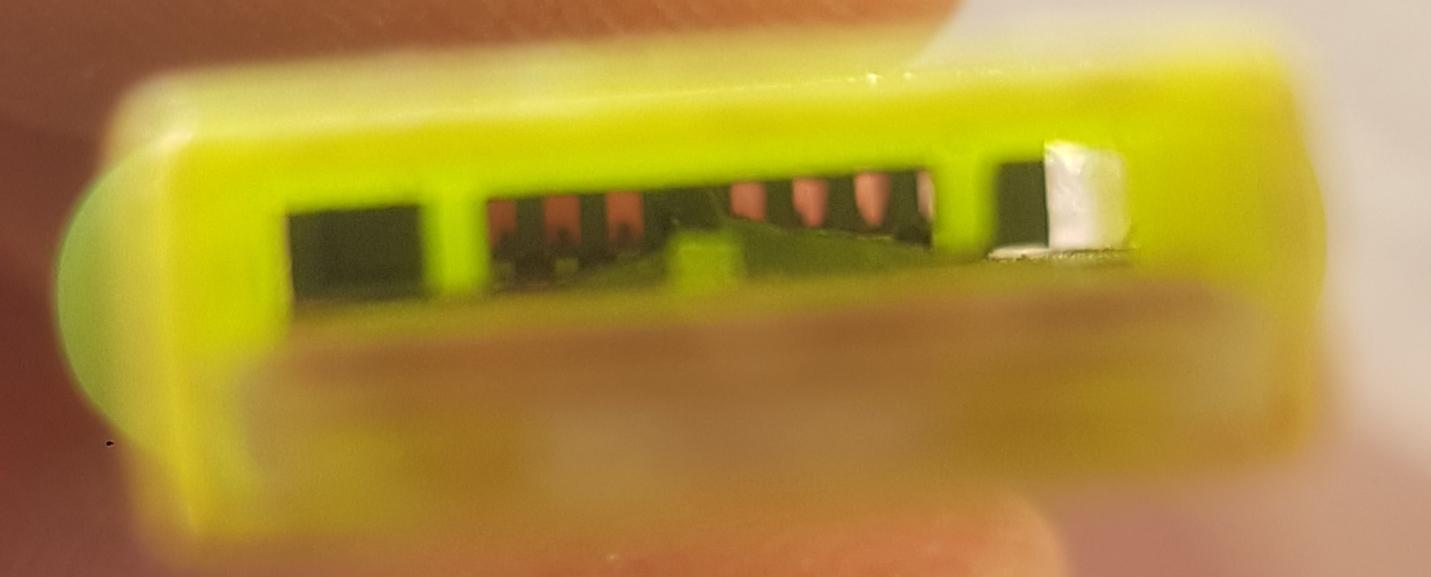electronic: (44, 16, 1333, 577)
